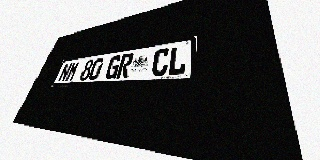0: (87, 57, 105, 80)
8: (78, 59, 95, 81)
C: (151, 47, 170, 76)
G: (104, 55, 122, 79)
L: (167, 45, 188, 75)
M: (64, 61, 80, 82)
N: (57, 62, 73, 82)
R: (116, 53, 134, 79)
